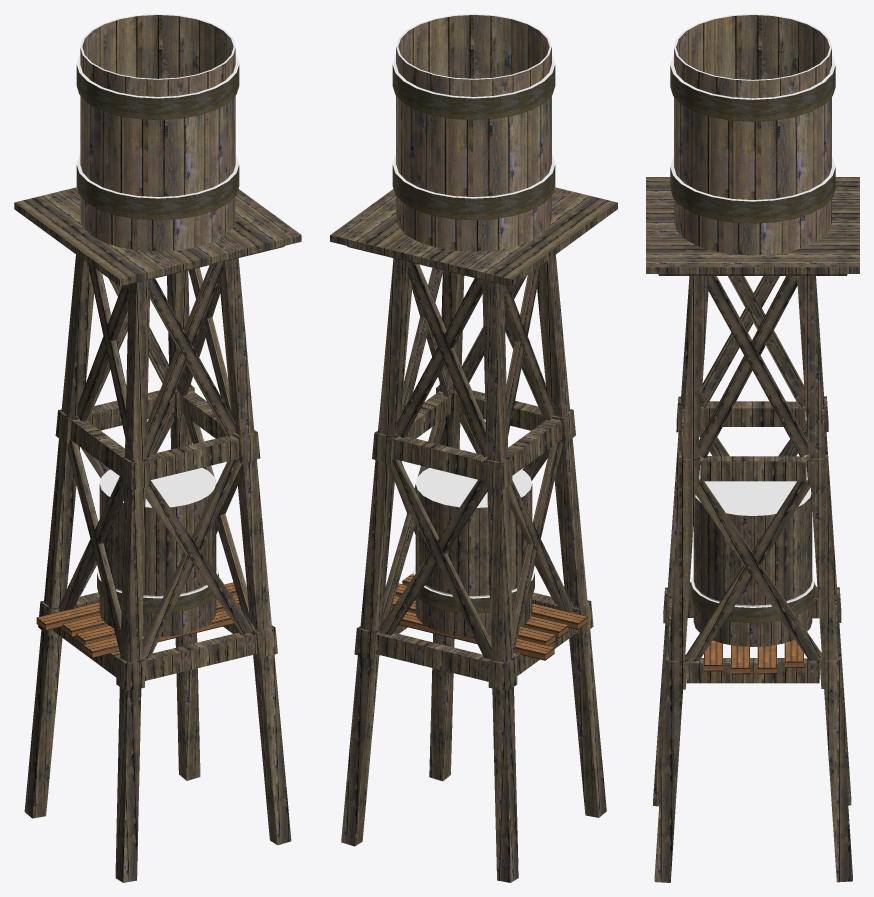
The model's file is water_tower.obj.
3 renders of one model, left to right at view 1: azimuth 30°, elevation 25°; view 2: azimuth 150°, elevation 25°; view 3: azimuth 270°, elevation 25°, orthographic.
Visible parts, largest first — view 1: Mesh1 Group2 Group1 Model, Mesh22 leg3 Group4 Group1 Model, Mesh15 leg2 Group4 Group1 Model, Mesh8 leg1 Group4 Group1 Model, Mesh2 Group3 Group1 Model, Mesh3 Group5 Group4 Group1 Model, Mesh29 leg4 Group4 Group1 Model, Mesh21 Group17 leg3 Group4 Group1 Model, Mesh17 leg2 Group4 Group1 Model, Mesh18 Group14 leg3 Group4 Group1 Model, Mesh20 Group16 leg3 Group4 Group1 Model, Mesh19 Group15 leg3 Group4 Group1 Model (+17 smaller); view 2: Mesh1 Group2 Group1 Model, Mesh8 leg1 Group4 Group1 Model, Mesh29 leg4 Group4 Group1 Model, Mesh22 leg3 Group4 Group1 Model, Mesh2 Group3 Group1 Model, Mesh3 Group5 Group4 Group1 Model, Mesh15 leg2 Group4 Group1 Model, Mesh27 Group20 leg4 Group4 Group1 Model, Mesh10 leg1 Group4 Group1 Model, Mesh26 Group19 leg4 Group4 Group1 Model, Mesh28 Group21 leg4 Group4 Group1 Model, Mesh25 Group18 leg4 Group4 Group1 Model (+16 smaller); view 3: Mesh1 Group2 Group1 Model, Mesh2 Group3 Group1 Model, Mesh29 leg4 Group4 Group1 Model, Mesh15 leg2 Group4 Group1 Model, Mesh3 Group5 Group4 Group1 Model, Mesh13 Group12 leg2 Group4 Group1 Model, Mesh14 Group13 leg2 Group4 Group1 Model, Mesh12 Group11 leg2 Group4 Group1 Model, Mesh22 leg3 Group4 Group1 Model, Mesh11 Group10 leg2 Group4 Group1 Model, Mesh30 leg4 Group4 Group1 Model, Mesh31 leg4 Group4 Group1 Model (+8 smaller).
Boxes of the visible parts, x1,y1,x2,y2 form: Mesh1 Group2 Group1 Model: (76,14,239,251); Mesh22 leg3 Group4 Group1 Model: (115,280,150,882); Mesh15 leg2 Group4 Group1 Model: (219,258,291,845); Mesh8 leg1 Group4 Group1 Model: (24,254,94,818); Mesh2 Group3 Group1 Model: (97,467,218,636); Mesh3 Group5 Group4 Group1 Model: (14,187,301,285); Mesh29 leg4 Group4 Group1 Model: (167,270,200,780); Mesh21 Group17 leg3 Group4 Group1 Model: (142,459,241,659); Mesh17 leg2 Group4 Group1 Model: (143,632,256,680); Mesh18 Group14 leg3 Group4 Group1 Model: (146,262,223,457); Mesh20 Group16 leg3 Group4 Group1 Model: (145,480,254,634); Mesh19 Group15 leg3 Group4 Group1 Model: (150,278,235,436); Mesh1 Group2 Group1 Model: (392,14,555,251); Mesh8 leg1 Group4 Group1 Model: (482,280,518,882); Mesh29 leg4 Group4 Group1 Model: (341,258,412,846); Mesh22 leg3 Group4 Group1 Model: (537,255,606,817); Mesh2 Group3 Group1 Model: (413,468,534,636); Mesh3 Group5 Group4 Group1 Model: (330,187,617,286); Mesh15 leg2 Group4 Group1 Model: (429,270,464,781); Mesh27 Group20 leg4 Group4 Group1 Model: (389,459,491,659); Mesh10 leg1 Group4 Group1 Model: (375,632,489,681); Mesh26 Group19 leg4 Group4 Group1 Model: (407,262,486,456); Mesh28 Group21 leg4 Group4 Group1 Model: (378,480,487,635); Mesh25 Group18 leg4 Group4 Group1 Model: (396,278,482,437); Mesh1 Group2 Group1 Model: (670,14,835,255); Mesh2 Group3 Group1 Model: (691,481,814,646); Mesh29 leg4 Group4 Group1 Model: (797,276,852,882); Mesh15 leg2 Group4 Group1 Model: (654,276,709,882); Mesh3 Group5 Group4 Group1 Model: (646,177,859,275); Mesh13 Group12 leg2 Group4 Group1 Model: (695,479,821,660); Mesh14 Group13 leg2 Group4 Group1 Model: (685,480,810,661); Mesh12 Group11 leg2 Group4 Group1 Model: (708,276,808,457); Mesh22 leg3 Group4 Group1 Model: (653,276,692,806); Mesh11 Group10 leg2 Group4 Group1 Model: (698,276,797,458); Mesh30 leg4 Group4 Group1 Model: (700,456,806,481); Mesh31 leg4 Group4 Group1 Model: (686,658,819,683).
Bounding box in the file's own units: 141 × 560 × 137.
